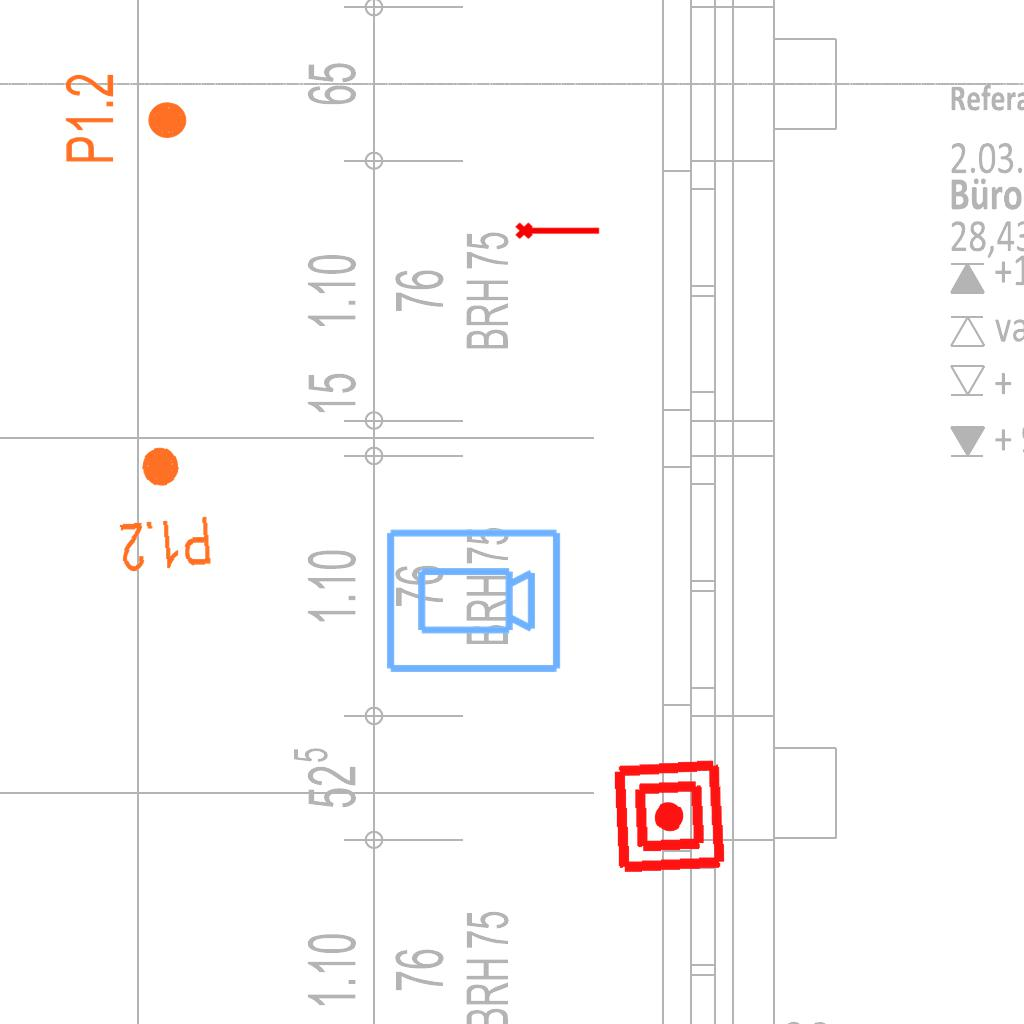ASR_Ansaugoeffnung: (514, 218, 602, 241)
Downlight_LED_Einbauleuchten_Flur: (110, 440, 215, 576), (62, 72, 190, 165)
KFO_Kamera_mit_Festobjektiv: (382, 525, 564, 679)
NAM-Nichtautomatischer_Melder: (610, 757, 729, 876)
